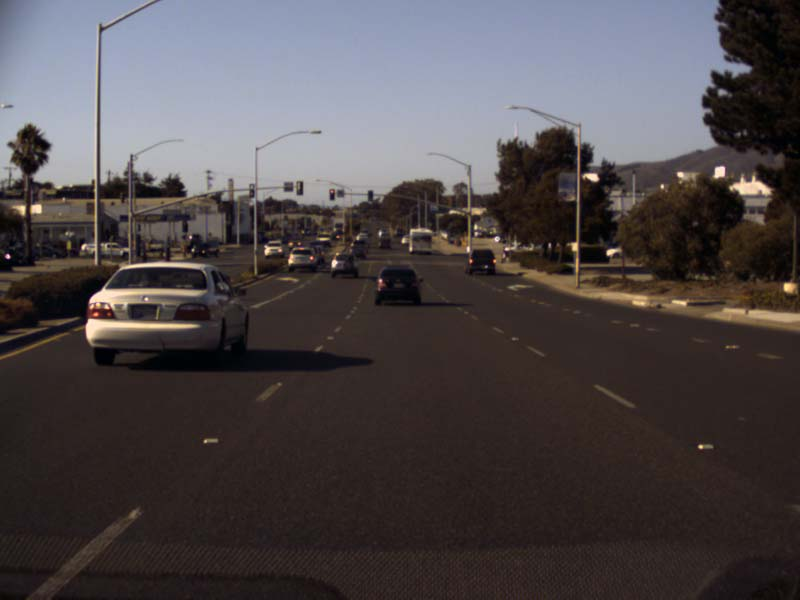Red: (328, 188, 335, 200)
